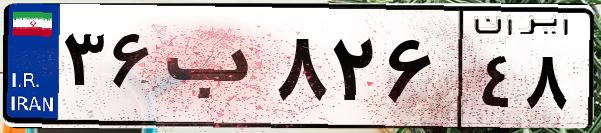2: (330, 28, 385, 110)
3: (57, 26, 110, 100)
4: (475, 38, 525, 113)
6: (385, 28, 445, 110), (110, 28, 158, 98)
8: (270, 28, 330, 110), (525, 38, 570, 115)
ب: (158, 20, 270, 120)
